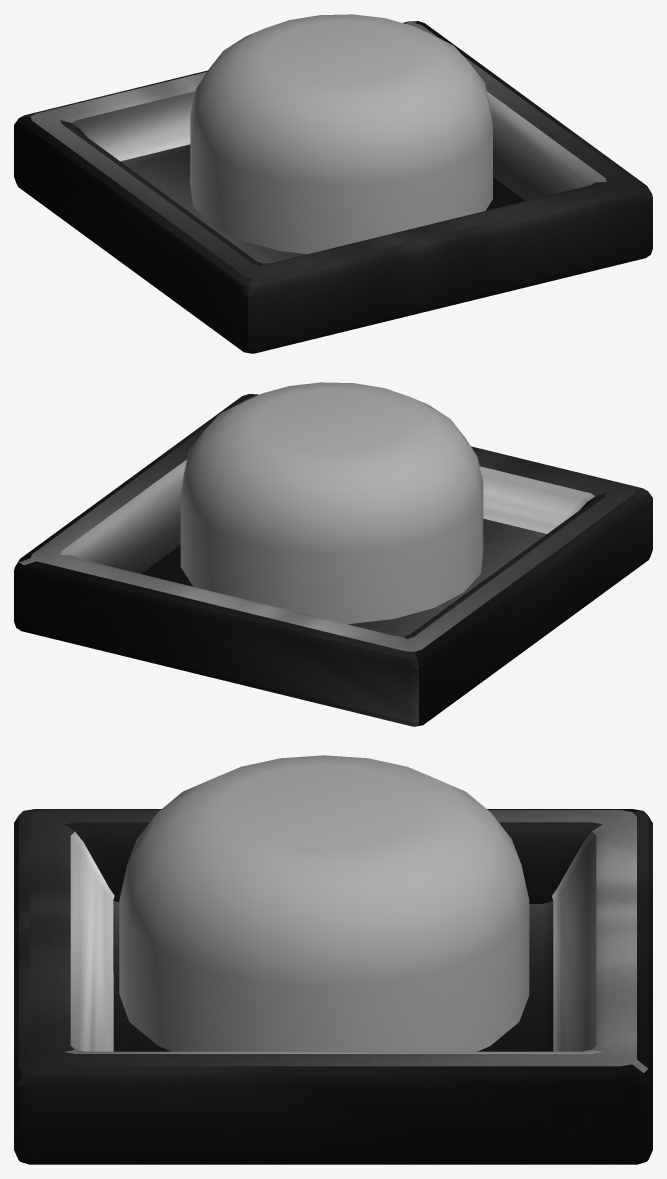
File: Pressure_Plate.fbx
The picture shows the model from 3 angles, top to bottom: view 1: azimuth 30°, elevation 25°; view 2: azimuth 150°, elevation 25°; view 3: azimuth 270°, elevation 25°; orthographic projection. The views are drawn at different scales.
Parts seen in each view (by area): view 1: pCylinder36; view 2: pCylinder36; view 3: pCylinder36.
Part boxes in pixels (x1,y1,x2,y2): pCylinder36: (14, 14, 652, 353); pCylinder36: (14, 382, 652, 726); pCylinder36: (14, 755, 652, 1164).
Size of the model in its own units: 5.94 by 2.36 by 5.94.
Materials: 2 (1 with a texture image).
